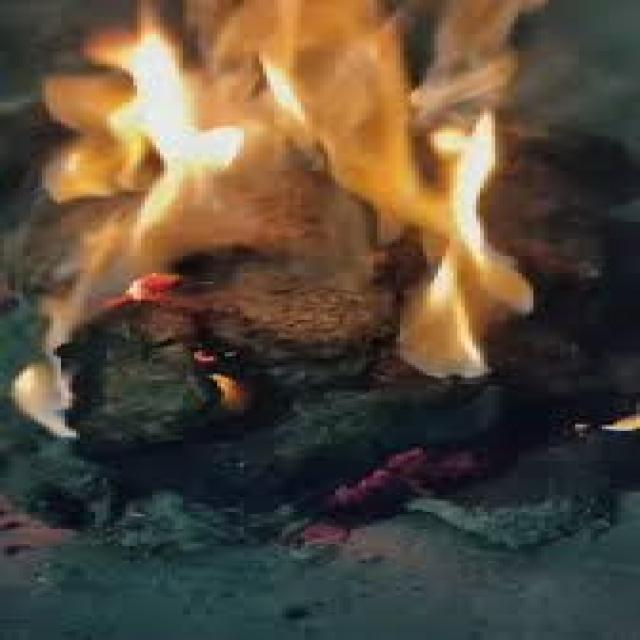fire: (41, 0, 536, 377), (11, 356, 80, 440)
